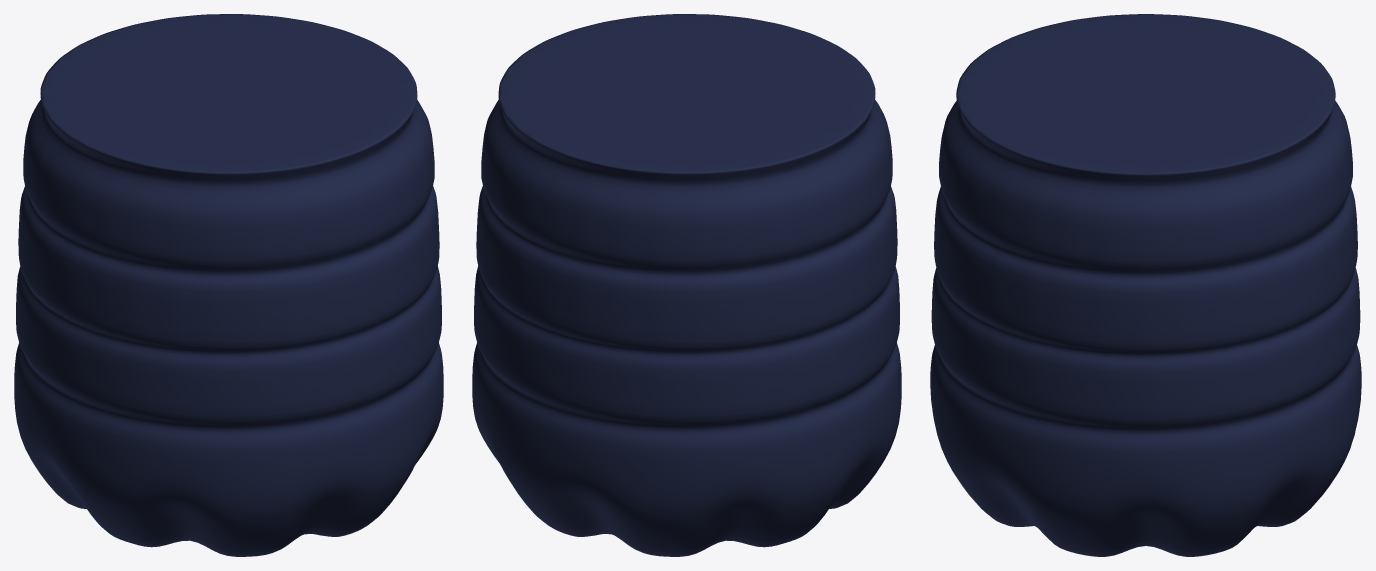
3 renders of one model, left to right at view 1: azimuth 30°, elevation 25°; view 2: azimuth 150°, elevation 25°; view 3: azimuth 270°, elevation 25°, orthographic.
Bounding box in the file's own units: 0.2826 × 0.2914 × 0.2826.
